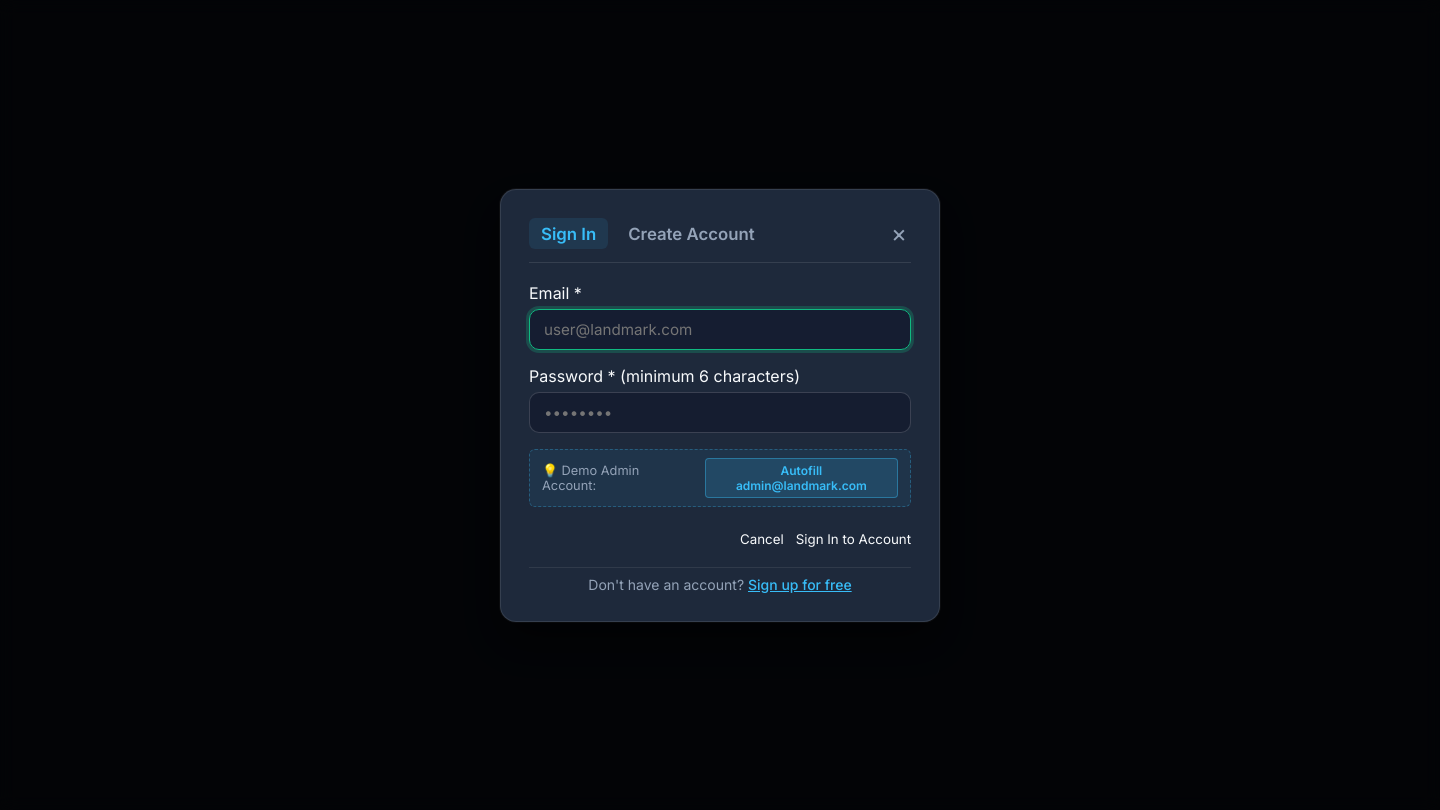
it: AuthModal Component › renders login tab by default and switches between tabs
Expected: the button "Sign In" is shown, [529,218,608,249]
Expected: the field labelled "Full Name" is not shown
Note: Switch to register tab
Click the button "Create Account" at (691, 234), box [616,218,767,249]
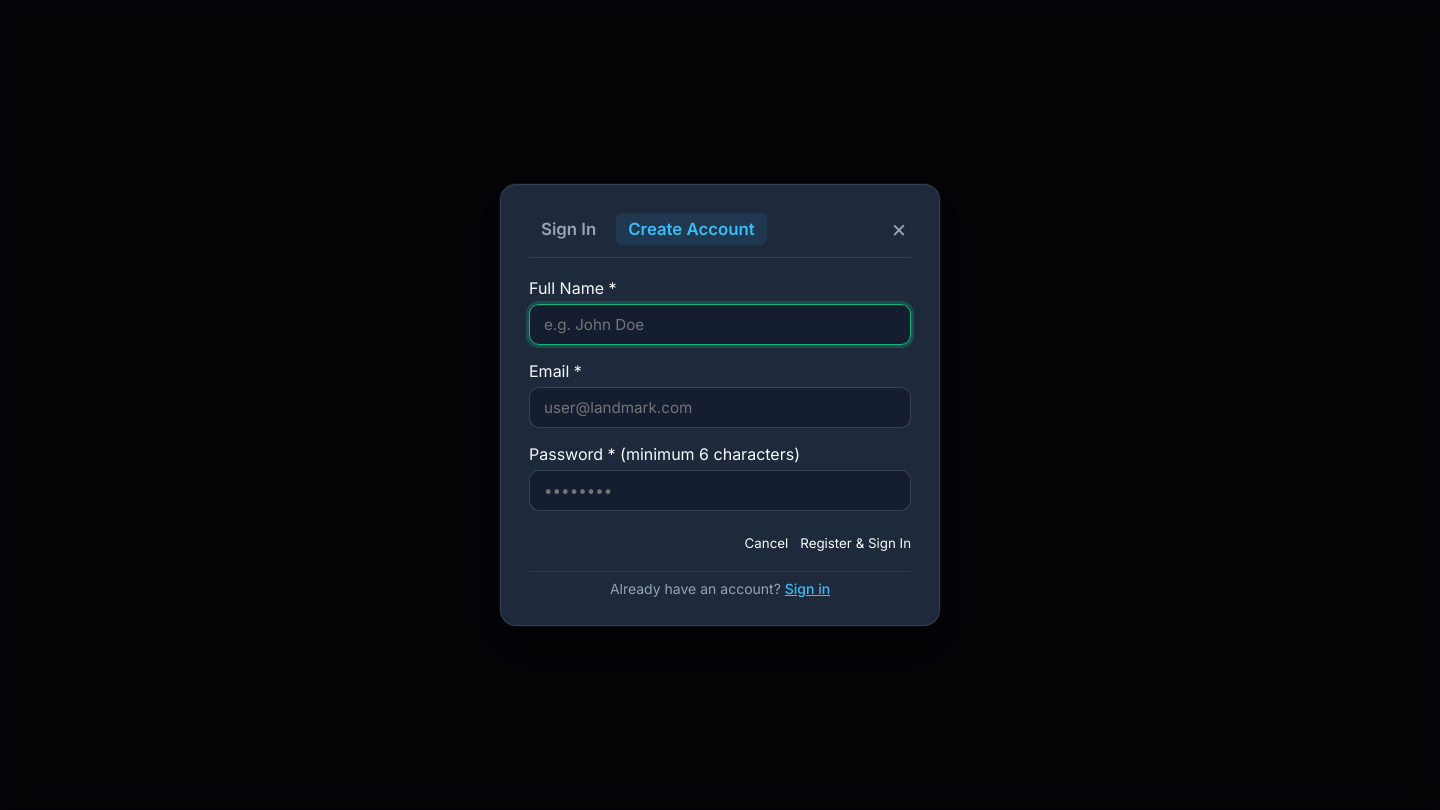
Now the field labelled "Full Name *" is shown, box [529,304,911,345]
